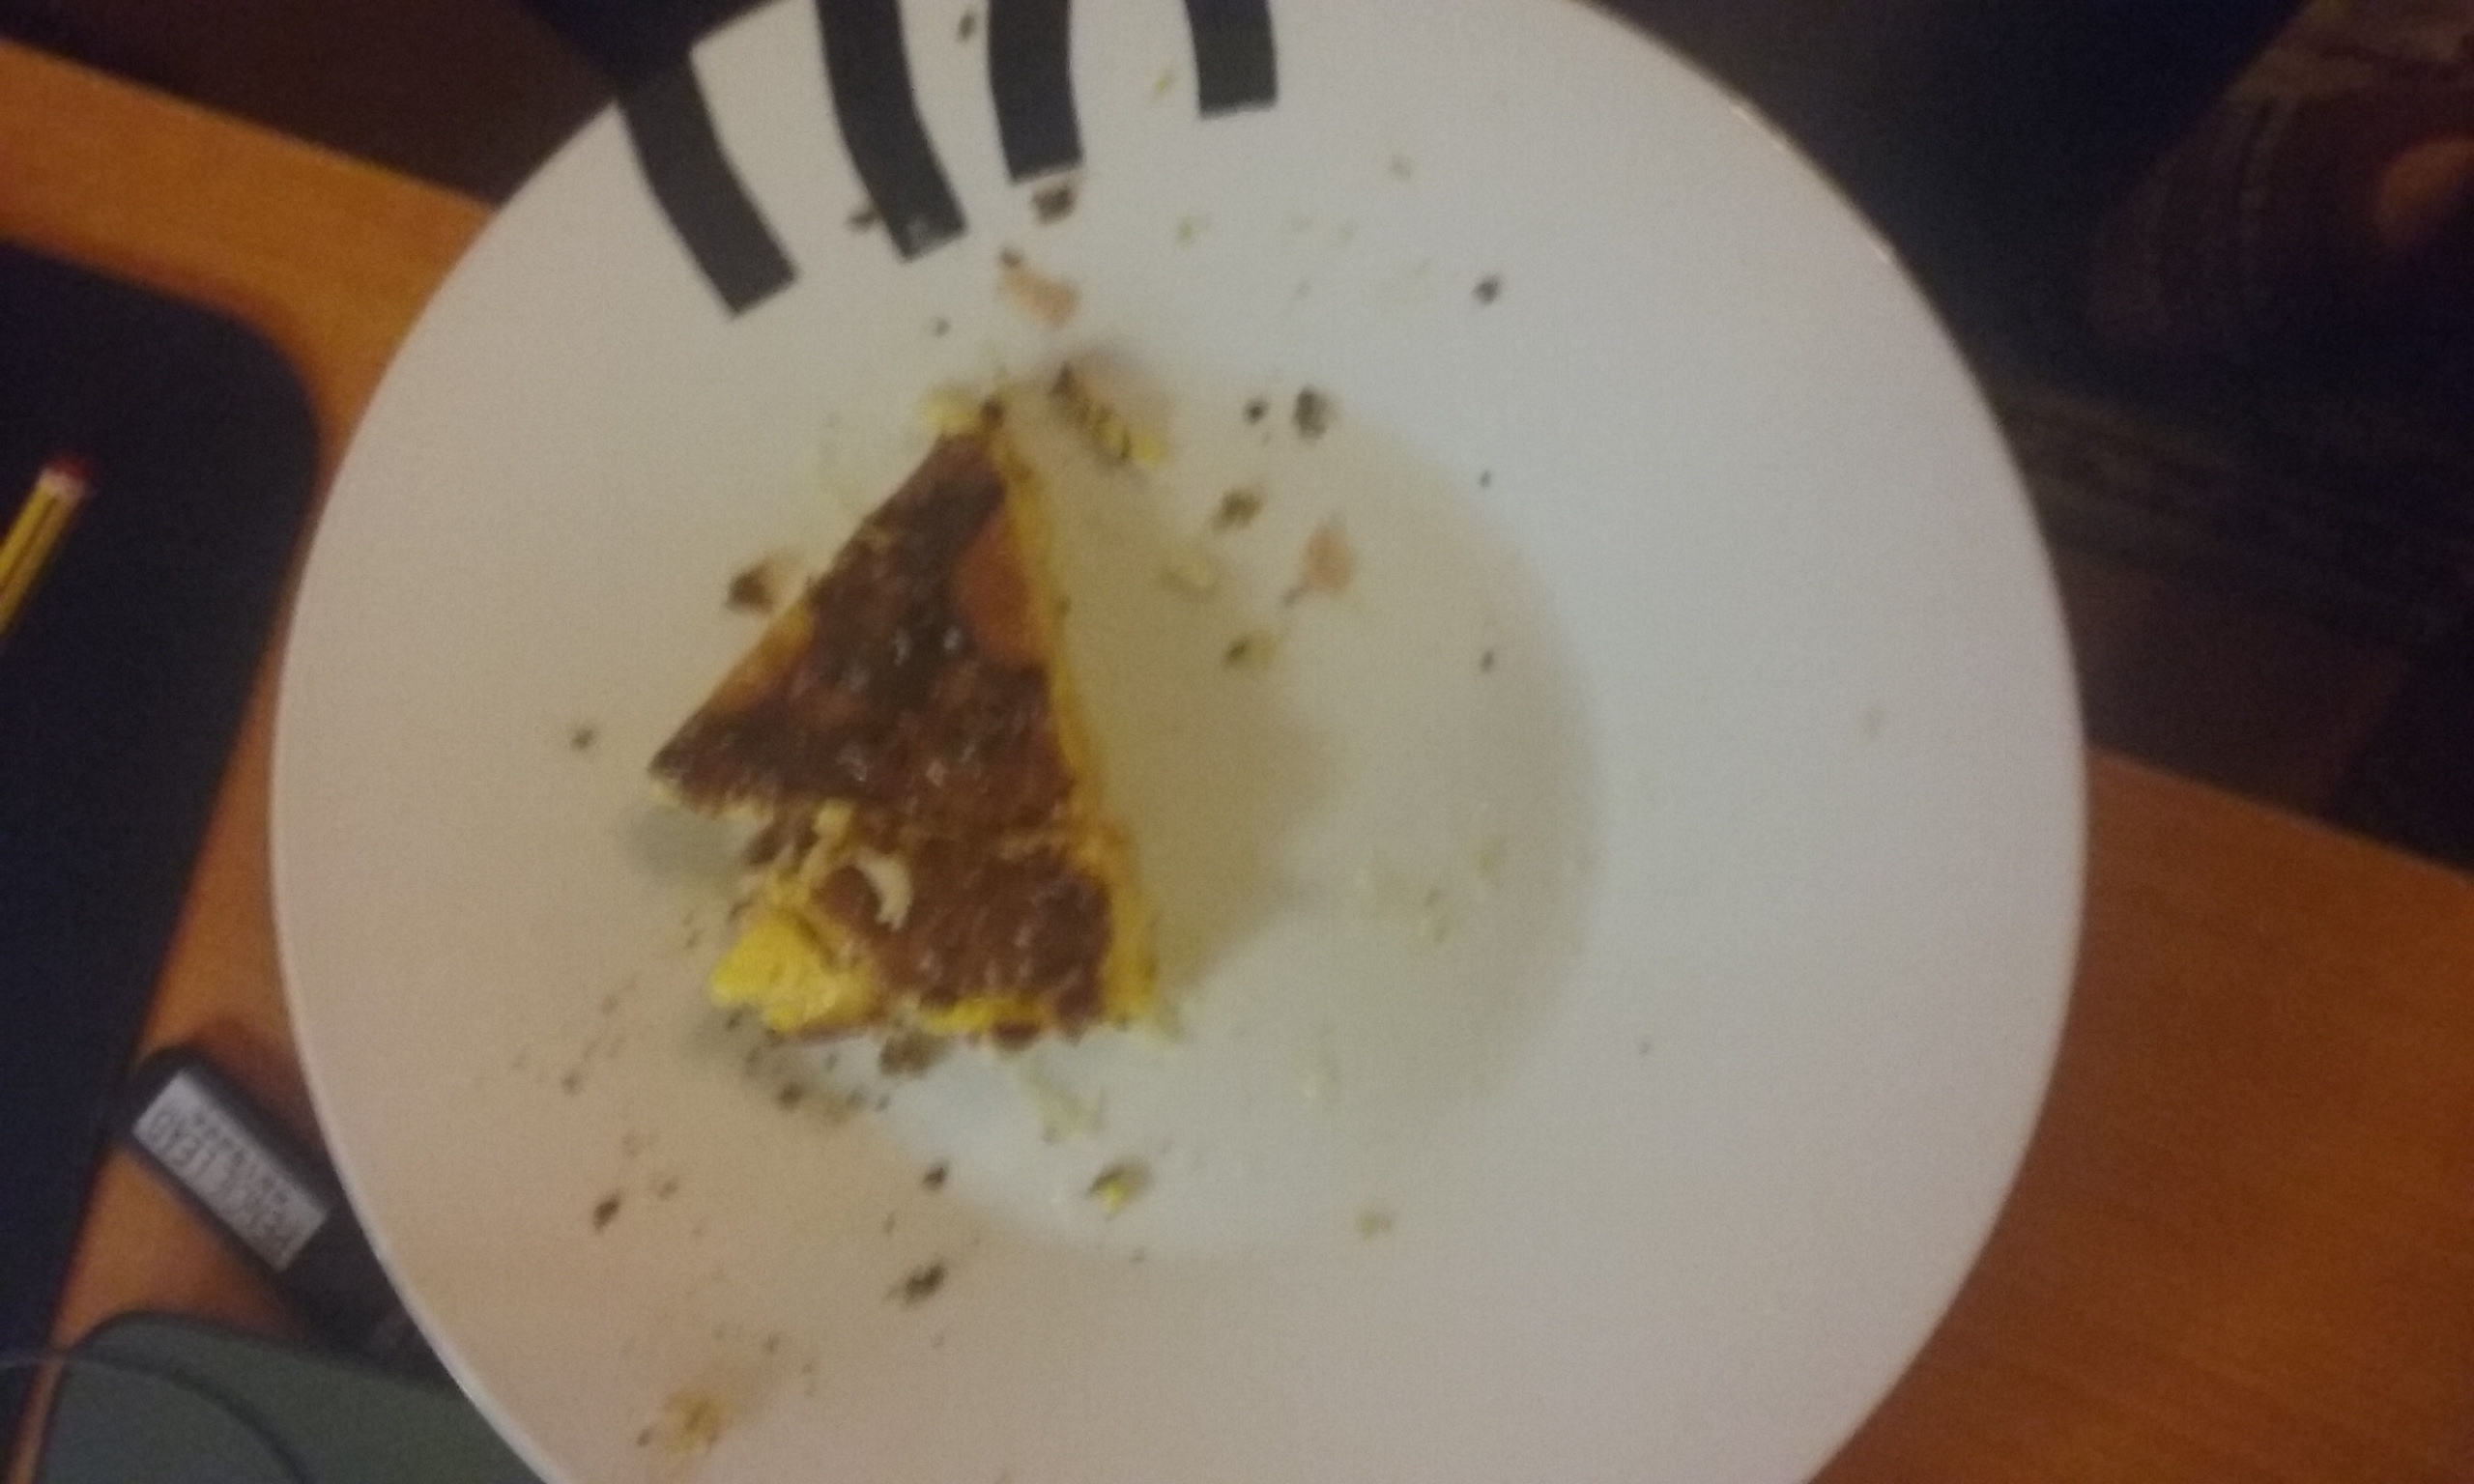21-40: (290, 2, 2082, 1484)
